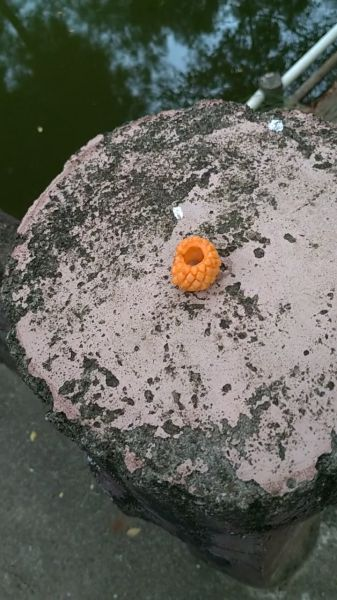eggs: (163, 229, 226, 293)
